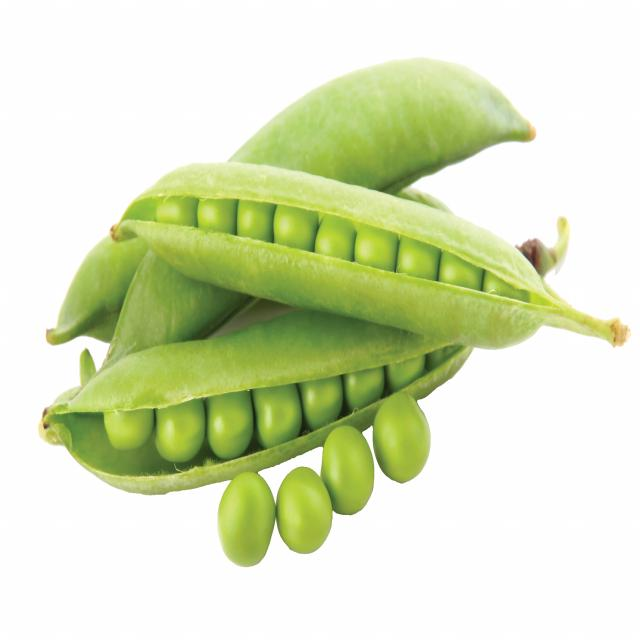Peas: (114, 370, 446, 559), (166, 182, 416, 276)
